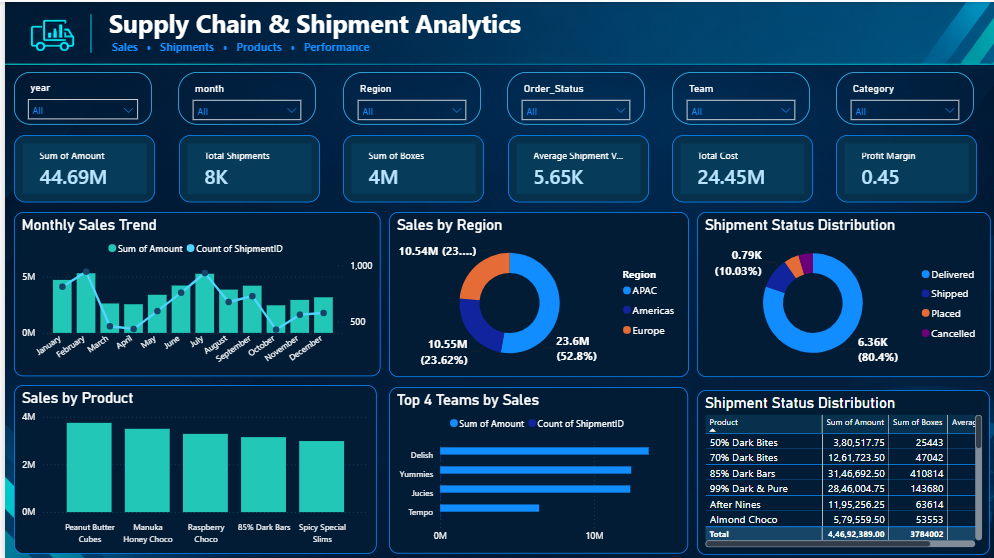

Layout of this report page (visuals, bound fields, positions):
{"tool":"powerbi","page":{"name":"Page 1","canvas":[1280,720],"ordinal":0},"visuals":[{"type":"textbox","box":[128.6,0,548.6,74.3],"z":0},{"type":"slicer","fields":{"Values":["calendar.year"]},"box":[11.4,90,178,68],"z":1000},{"type":"slicer","fields":{"Values":["calendar.month_name"]},"box":[223.7,90,178,68],"z":2000},{"type":"slicer","fields":{"Values":["locations.Region"]},"box":[436,90,178,68],"z":3000},{"type":"slicer","fields":{"Values":["people.Team"]},"box":[860.6,90,178,68],"z":4000},{"type":"slicer","fields":{"Values":["products.Category"]},"box":[1072.9,90,178,68],"z":5000},{"type":"slicer","fields":{"Values":["shipments.Order_Status"]},"box":[648.3,90,178,68],"z":6000},{"type":"cardVisual","fields":{"Data":["Sum(shipments.Amount)"]},"box":[11.4,171.4,182,87],"z":7000},{"type":"cardVisual","fields":{"Data":["shipments.Total Shipments"]},"box":[224.3,171.4,182,87],"z":8000},{"type":"cardVisual","fields":{"Data":["Sum(shipments.Boxes)"]},"box":[435.7,171.4,182,87],"z":9000},{"type":"cardVisual","fields":{"Data":["shipments.Average Shipment Value"]},"box":[648.6,171.4,182,87],"z":10000},{"type":"cardVisual","fields":{"Data":["calendar.Total Cost"]},"box":[860,171.4,182,87],"z":11000},{"type":"cardVisual","fields":{"Data":["calendar.Profit Margin"]},"box":[1072.9,171.4,182,87],"z":12000},{"type":"lineClusteredColumnComboChart","title":"Monthly Sales Trend","fields":{"Y":["Sum(shipments.Amount)"],"Y2":["Count(shipments.ShipmentID)"],"Category":["calendar.cal_date.Variation.Date Hierarchy.Month"]},"box":[11.4,271.4,473,212],"z":13000},{"type":"donutChart","title":"Sales by Region","fields":{"Y":["Sum(shipments.Amount)"],"Category":["locations.Region"]},"box":[495.1,271.4,387.1,212.9],"z":14000},{"type":"donutChart","title":"Shipment Status Distribution","fields":{"Y":["CountNonNull(shipments.ShipmentID)"],"Category":["shipments.Order_Status"]},"box":[892.9,271.4,379,212.9],"z":15000},{"type":"clusteredColumnChart","title":"Sales by Product","fields":{"Category":["products.Product"],"Y":["Sum(shipments.Amount)"]},"box":[11.4,494.3,468,218],"z":16000},{"type":"clusteredBarChart","title":"Top 4 Teams by Sales","fields":{"Y":["Sum(shipments.Amount)","Count(shipments.ShipmentID)"],"Category":["people.Team"]},"box":[495,496.2,386.2,215],"z":17000},{"type":"tableEx","title":"Shipment Status Distribution","fields":{"Values":["products.Product","Sum(shipments.Amount)","Sum(shipments.Boxes)","Avg(shipments.Amount)"]},"box":[893.3,500,378.3,213.3],"z":18000}]}

Visuals, with their boxes in screenshot pixels (x1, y1, x2, y2), scaled from the page's 1280x720 canvas onto the 994x558 screenshot:
textbox: x1=100 y1=0 x2=526 y2=58
slicer - calendar.year: x1=9 y1=70 x2=147 y2=122
slicer - calendar.month_name: x1=174 y1=70 x2=312 y2=122
slicer - locations.Region: x1=339 y1=70 x2=477 y2=122
slicer - people.Team: x1=668 y1=70 x2=807 y2=122
slicer - products.Category: x1=833 y1=70 x2=971 y2=122
slicer - shipments.Order_Status: x1=503 y1=70 x2=642 y2=122
cardVisual - Sum(shipments.Amount): x1=9 y1=133 x2=150 y2=200
cardVisual - shipments.Total Shipments: x1=174 y1=133 x2=316 y2=200
cardVisual - Sum(shipments.Boxes): x1=338 y1=133 x2=480 y2=200
cardVisual - shipments.Average Shipment Value: x1=504 y1=133 x2=645 y2=200
cardVisual - calendar.Total Cost: x1=668 y1=133 x2=809 y2=200
cardVisual - calendar.Profit Margin: x1=833 y1=133 x2=975 y2=200
"Monthly Sales Trend" lineClusteredColumnComboChart: x1=9 y1=210 x2=376 y2=375
"Sales by Region" donutChart: x1=384 y1=210 x2=685 y2=375
"Shipment Status Distribution" donutChart: x1=693 y1=210 x2=988 y2=375
"Sales by Product" clusteredColumnChart: x1=9 y1=383 x2=372 y2=552
"Top 4 Teams by Sales" clusteredBarChart: x1=384 y1=385 x2=684 y2=551
"Shipment Status Distribution" tableEx: x1=694 y1=388 x2=987 y2=553
